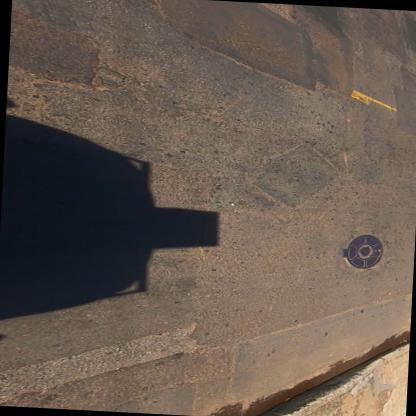manholes: (329, 230, 397, 275)
